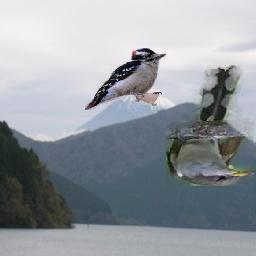Cuckoo: (166, 66, 254, 187)
Woodpecker: (86, 48, 167, 110)
